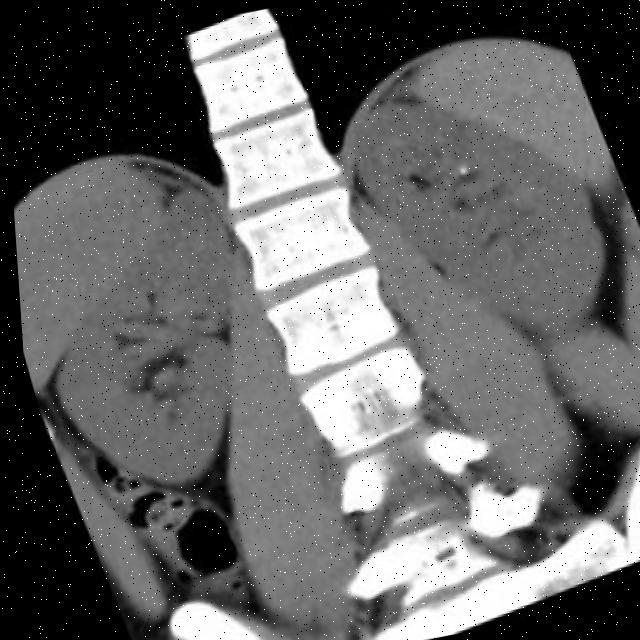Tas_Var: (450, 158, 469, 177)
